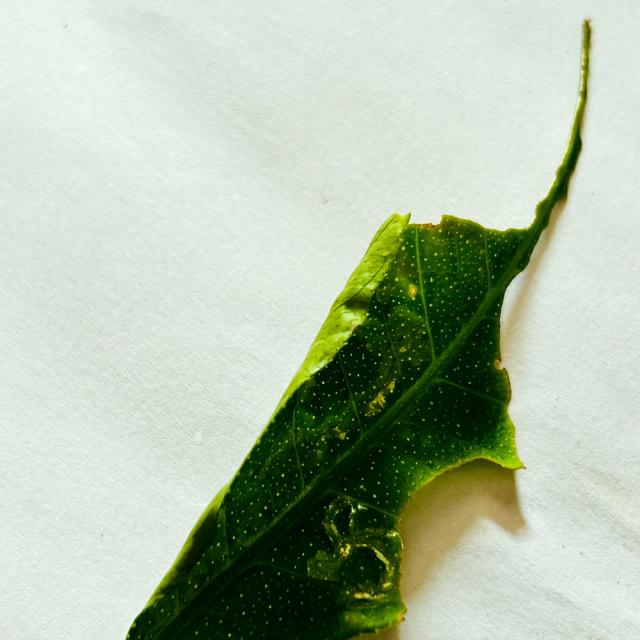Deficiency Leaf: (501, 196, 577, 440), (390, 113, 549, 229), (399, 460, 516, 605)
Lemon: (127, 21, 590, 639)
